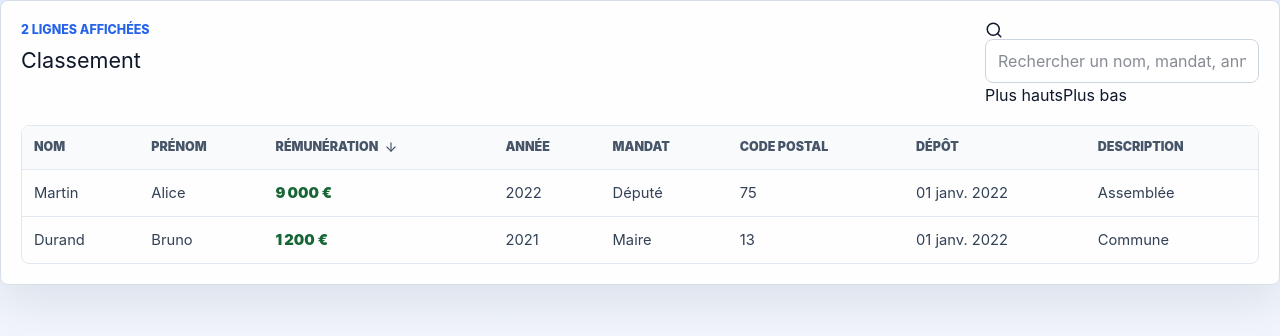
Test: SalaryTable › sorts salary rows from a column header
The image size is (1280, 336).
Click the button "Rémunération": (378, 147) [264,126,493,169]
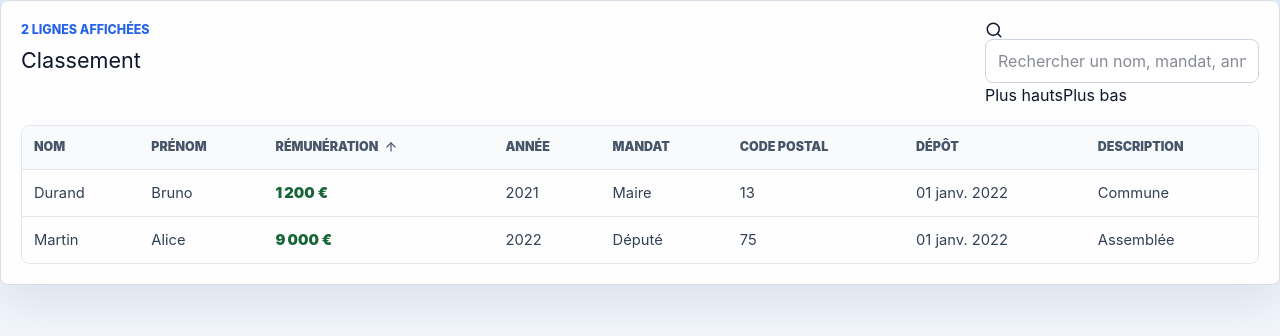
Now the text "Durand" is shown, box [22,169,139,216]
